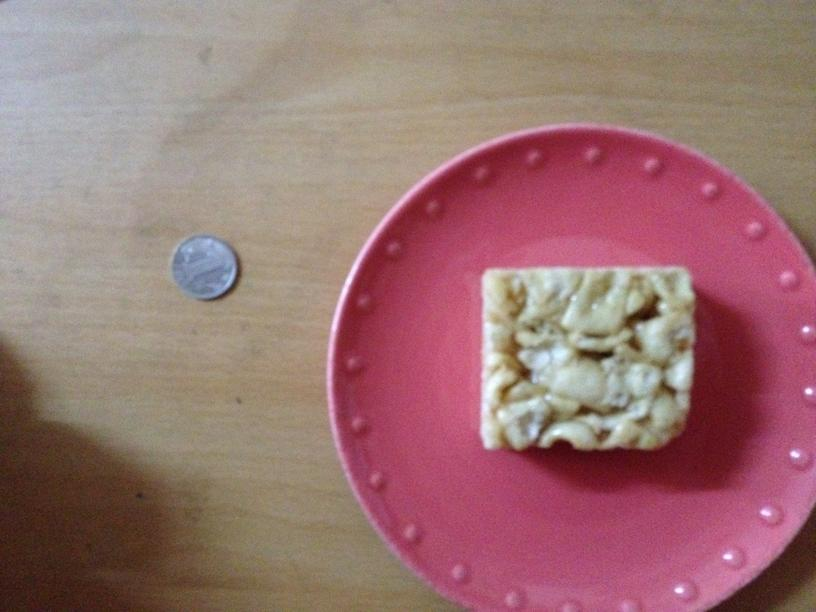coin: (168, 236, 241, 302)
sachima: (480, 267, 691, 449)
